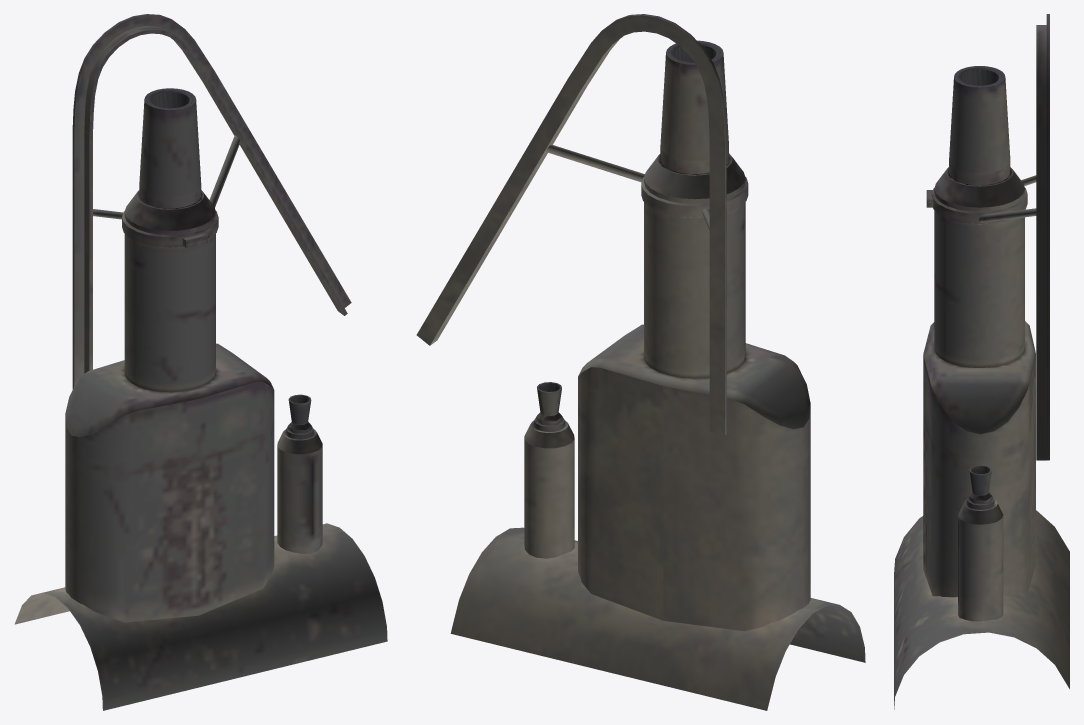
Rendered from Gun_06.glb.
3 views of the same model, side by side, from view 1: azimuth 30°, elevation 25°; view 2: azimuth 150°, elevation 25°; view 3: azimuth 270°, elevation 25° (orthographic). The views are drawn at different scales.
Parts seen in each view (by area): view 1: set_0_group_0; view 2: set_0_group_0; view 3: set_0_group_0.
Part boxes in pixels (<box>): set_0_group_0: <box>14,14,387,710</box>; set_0_group_0: <box>416,14,865,710</box>; set_0_group_0: <box>894,14,1069,709</box>.
Bounding box in the file's own units: 0.7174 × 1.29 × 0.3378.
Materials: 1 (1 with a texture image).
